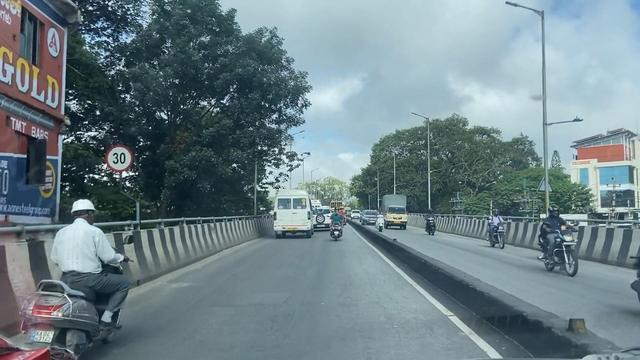HMV: (274, 191, 311, 236)
LMV: (38, 191, 121, 360), (332, 205, 343, 240)
